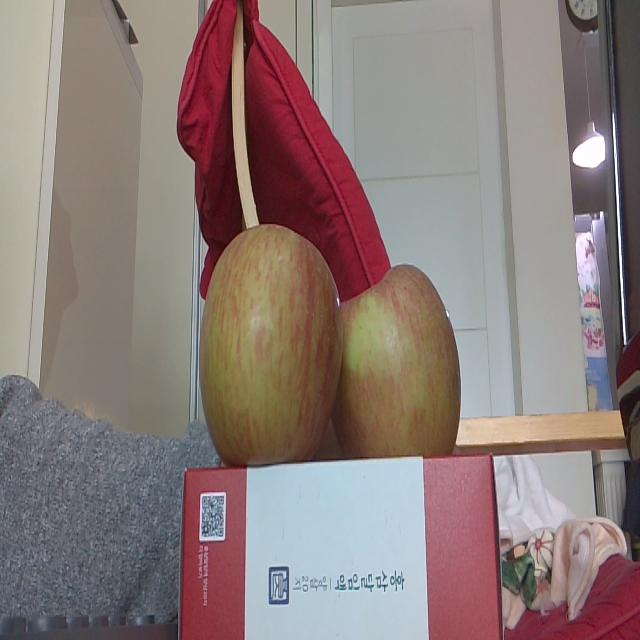apple: (200, 218, 340, 462), (338, 258, 463, 462)
